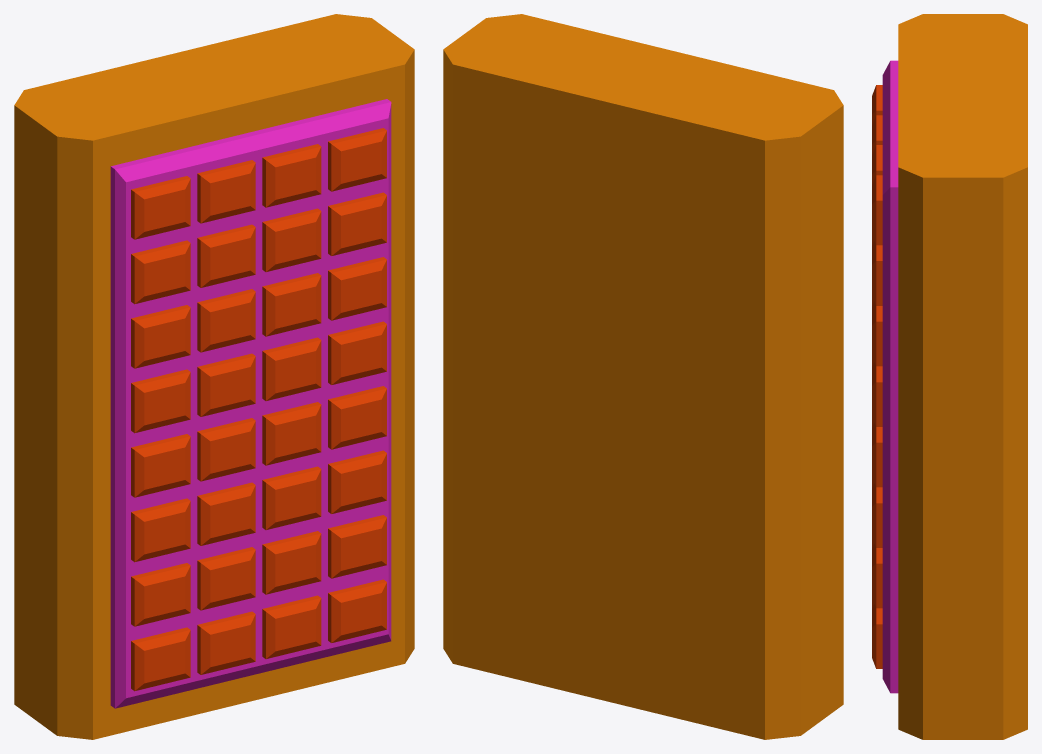
The model's file is BasicOutdoorWallBrick.fbx.
3 views of the same model, side by side, from view 1: azimuth 30°, elevation 25°; view 2: azimuth 150°, elevation 25°; view 3: azimuth 270°, elevation 25° (orthographic). The views are drawn at different scales.
Parts seen in each view (by area): view 1: BrickWall; view 2: BrickWall; view 3: BrickWall.
Boxes of the visible parts, x1,y1,x2,y2 form: BrickWall: (14,14,414,739); BrickWall: (443,14,843,739); BrickWall: (872,14,1027,739).
Size of the model in its own units: 200 by 320 by 80.39.
